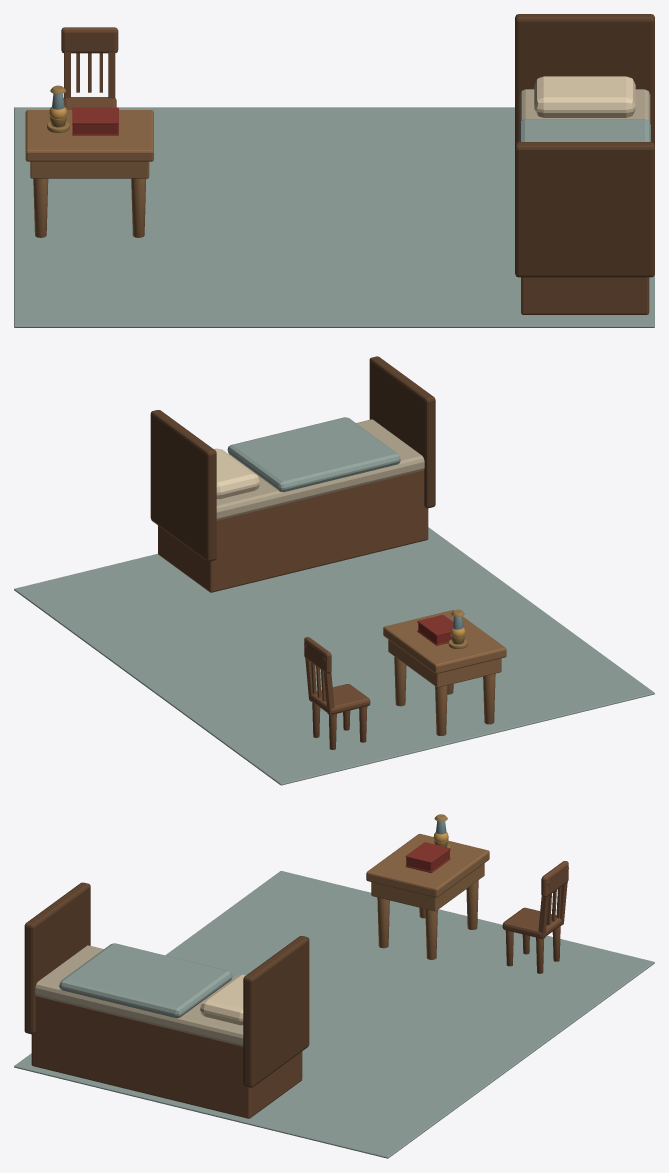
The model's file is SM_CP_SonyaRoomSet.fbx.
The picture shows the model from 3 angles, top to bottom: view 1: azimuth 30°, elevation 25°; view 2: azimuth 150°, elevation 25°; view 3: azimuth 270°, elevation 25°; orthographic projection. The views are drawn at different scales.
Visible parts, largest first — view 1: SM_CP_SonyaRoomSet; view 2: SM_CP_SonyaRoomSet; view 3: SM_CP_SonyaRoomSet.
Boxes of the visible parts, x1,y1,x2,y2 form: SM_CP_SonyaRoomSet: (14, 14, 654, 327); SM_CP_SonyaRoomSet: (14, 356, 654, 785); SM_CP_SonyaRoomSet: (14, 814, 654, 1158).
Size of what is drawn, in the model's own units: 698 by 660 by 166.
